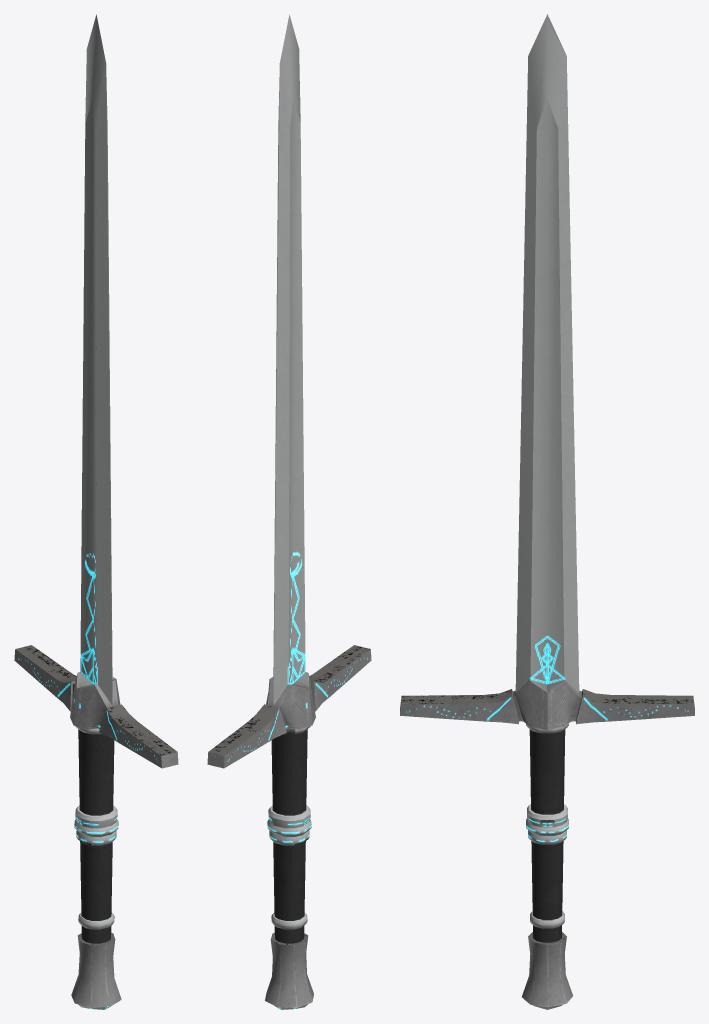
Rendered from długi_miecz.glb.
3 views of the same model, side by side, from view 1: azimuth 30°, elevation 25°; view 2: azimuth 150°, elevation 25°; view 3: azimuth 270°, elevation 25° (orthographic).
Parts seen in each view (by area): view 1: Object_3; view 2: Object_3; view 3: Object_3.
Boxes of the visible parts, x1,y1,x2,y2 form: Object_3: [14, 14, 178, 1009]; Object_3: [207, 14, 371, 1009]; Object_3: [400, 14, 694, 1009].
Bounding box in the file's own units: 0.1883 × 3.89 × 1.05.
1 material, 1 textured.
